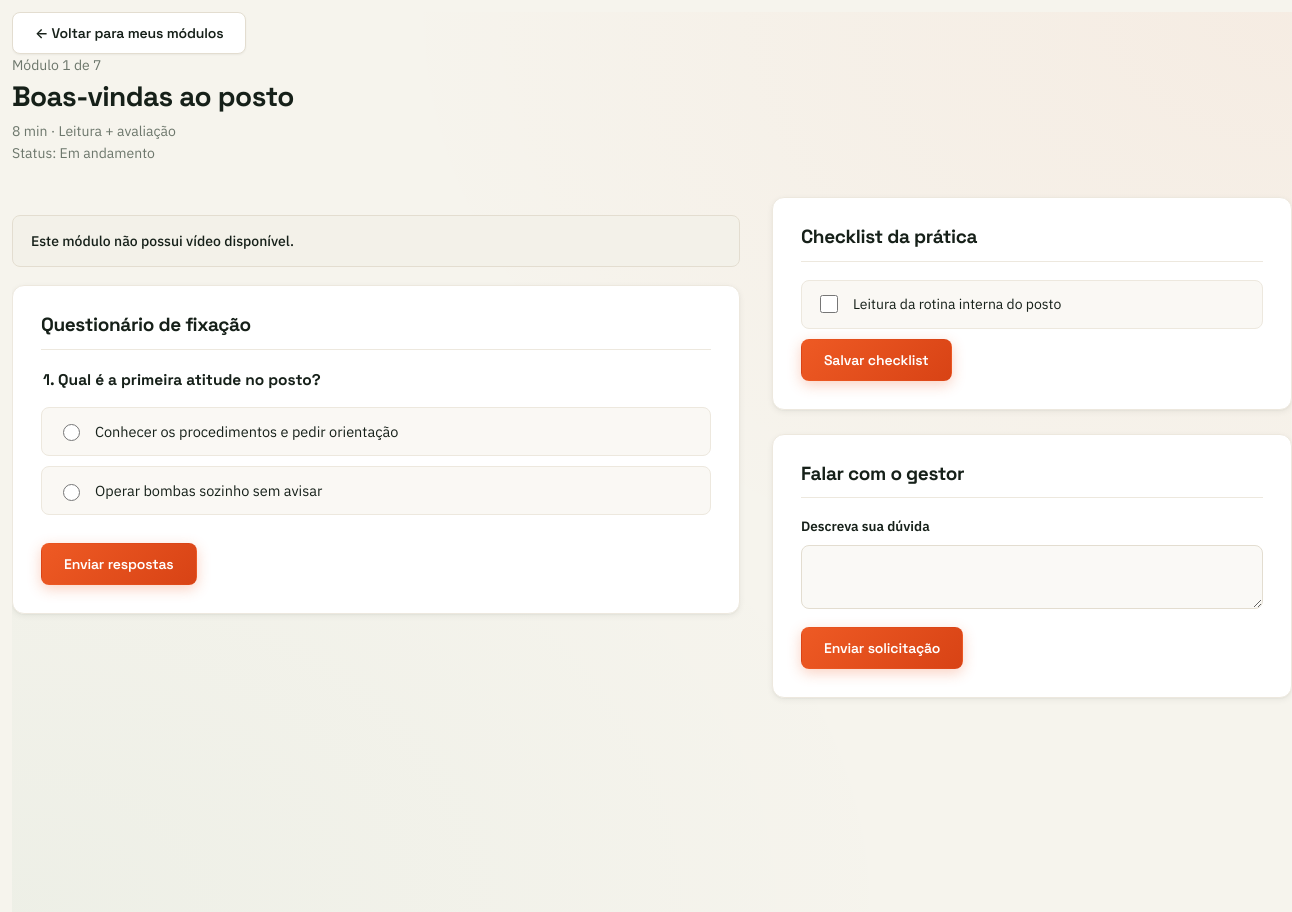
Scenario: ModuloInterno Component › permite selecionar alternativas e enviar questionário de fixação
Check: the text "1. Qual é a primeira atitude no posto?" is shown, box left=41, top=368, right=323, bottom=393
Step 1. Click the radio button labelled "Conhecer os procedimentos e pedir orientação" → x=72, y=433, box left=63, top=424, right=80, bottom=441
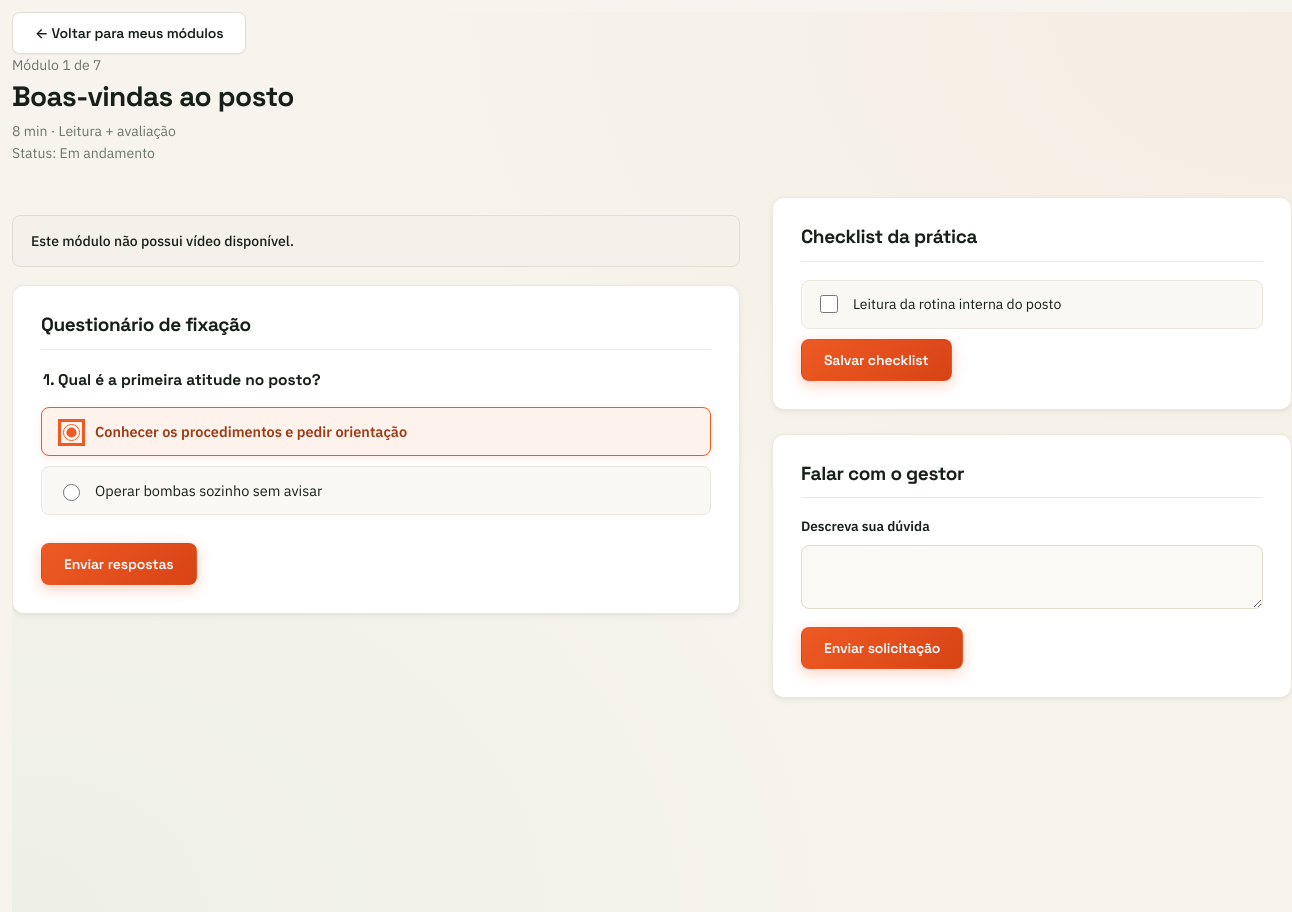
Check: the radio button labelled "Conhecer os procedimentos e pedir orientação" is checked, box left=63, top=424, right=80, bottom=441
Step 2. Click the button "Enviar respostas" → x=119, y=564, box left=41, top=543, right=197, bottom=585
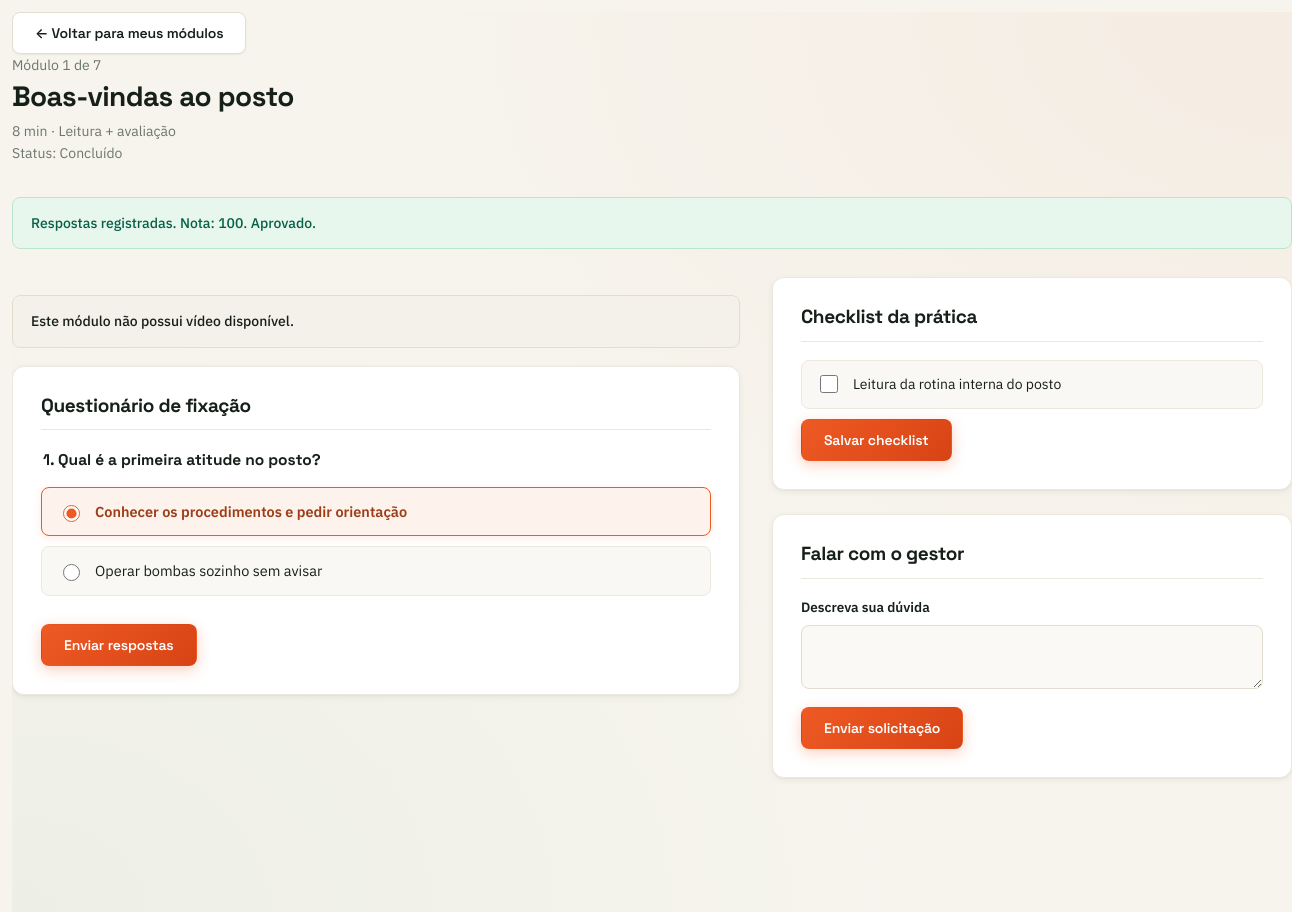
Check: the message reads "Respostas registradas. Nota: 100. Aprovado.", box left=31, top=214, right=316, bottom=232
